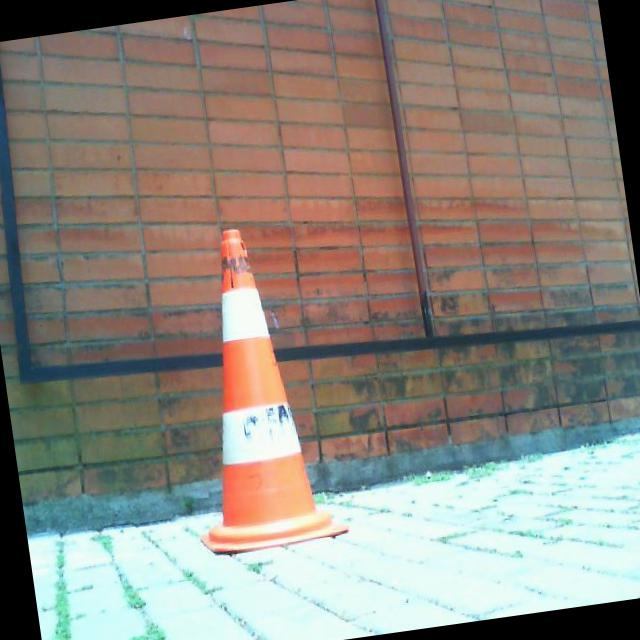Cone: (164, 221, 348, 558)
